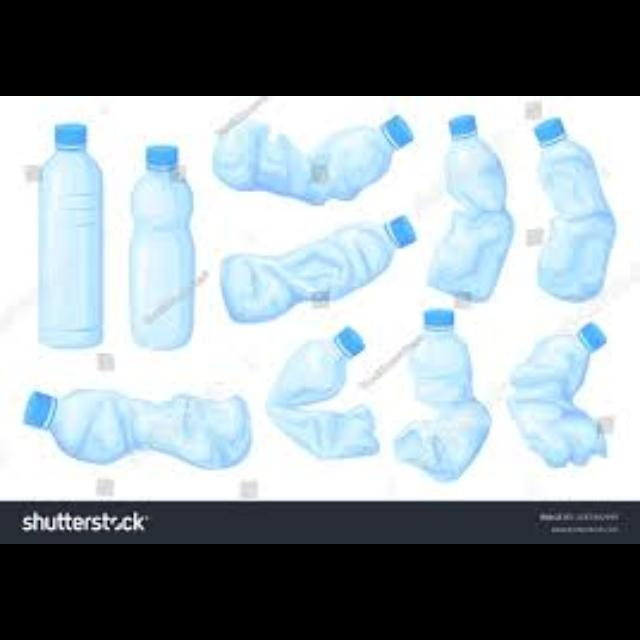trash: (10, 368, 262, 487), (218, 212, 418, 326), (207, 106, 415, 210), (35, 113, 115, 355), (122, 138, 200, 362), (528, 113, 618, 307), (397, 308, 495, 482), (432, 119, 518, 308), (268, 326, 384, 464), (508, 320, 612, 470)
